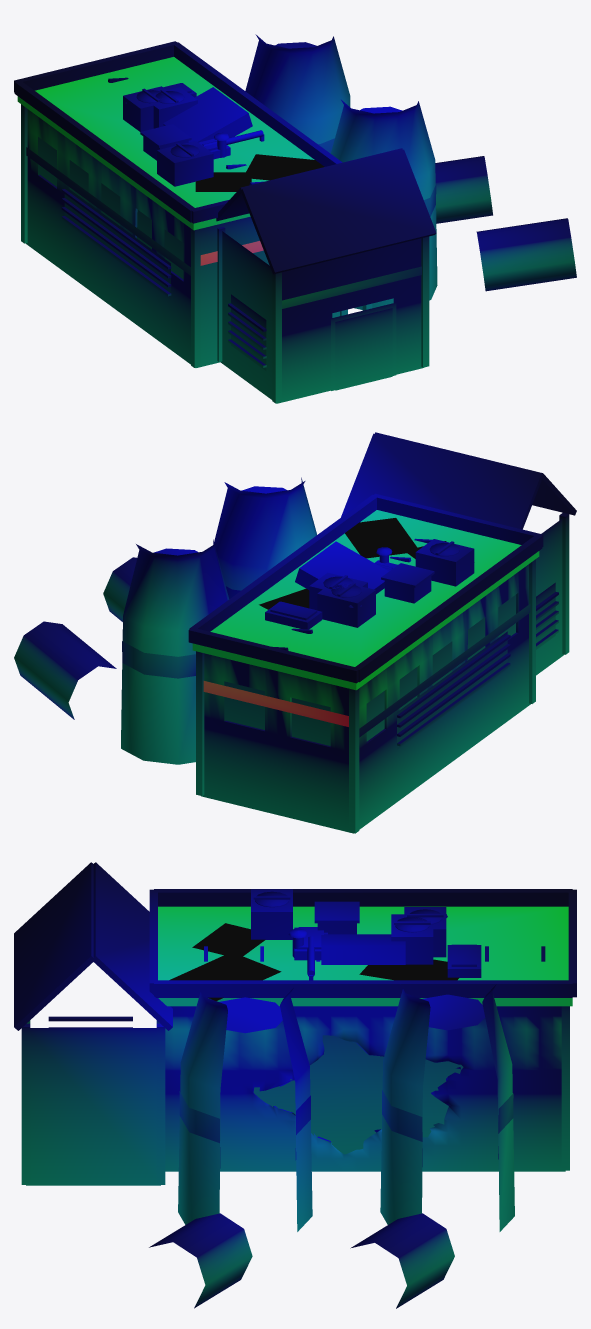
Rendered from processingplant_damaged.glb.
3 views of the same model, one above another, from view 1: azimuth 30°, elevation 25°; view 2: azimuth 150°, elevation 25°; view 3: azimuth 270°, elevation 25° (orthographic). The views are drawn at different scales.
Visible parts, largest first — view 1: lod0; view 2: lod0; view 3: lod0.
Boxes of the visible parts, left/top/right/bottom form: lod0: left=14, top=34, right=576, bottom=403; lod0: left=14, top=432, right=576, bottom=833; lod0: left=14, top=862, right=576, bottom=1308.
Size of what is drawn, in the model's own units: 19.66 by 9.89 by 20.03.
